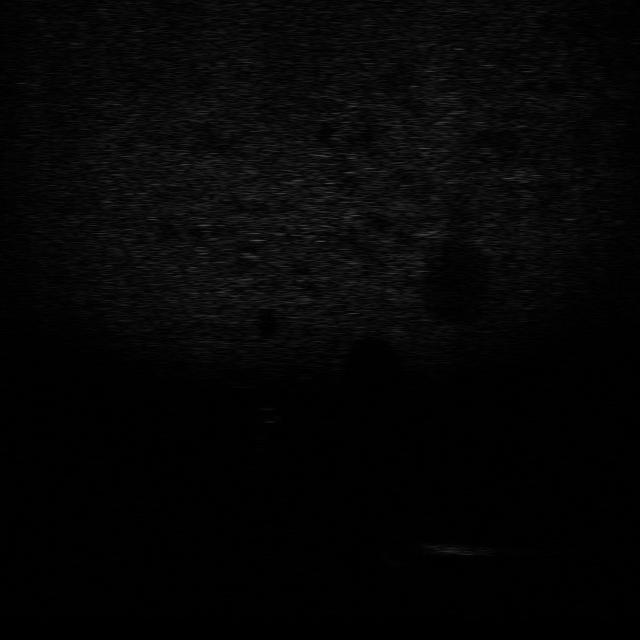ball: (250, 404, 289, 425)
metal bucket: (418, 539, 498, 560)
tyre: (349, 518, 415, 570)
